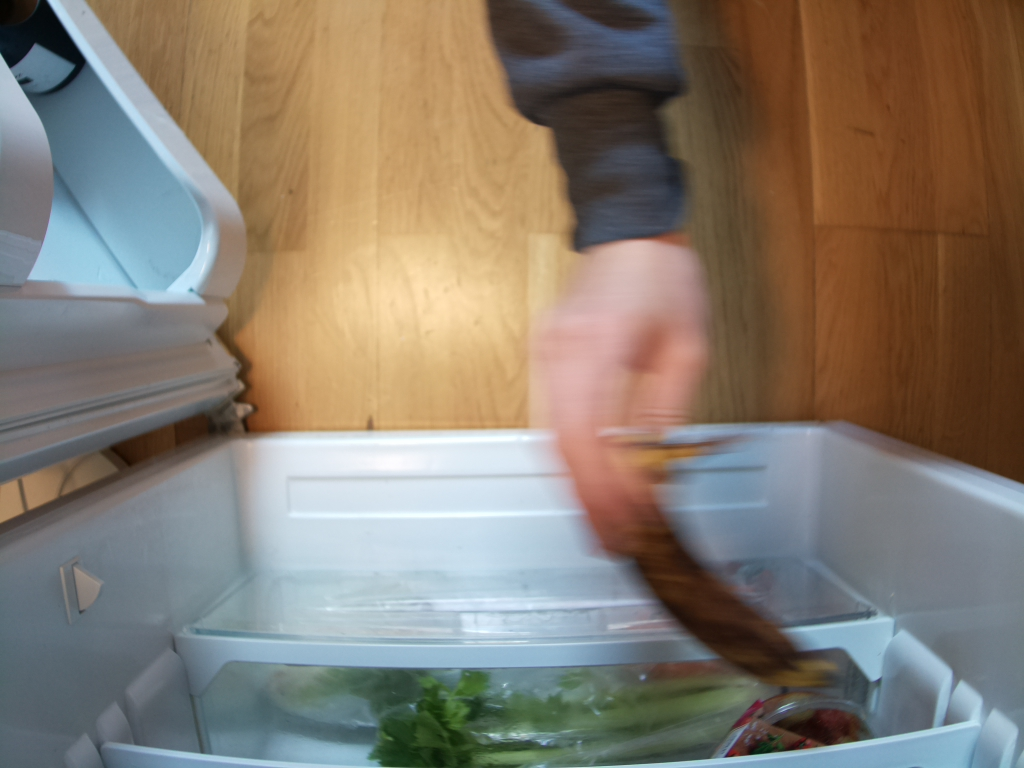banana-overripe: (584, 435, 822, 691)
